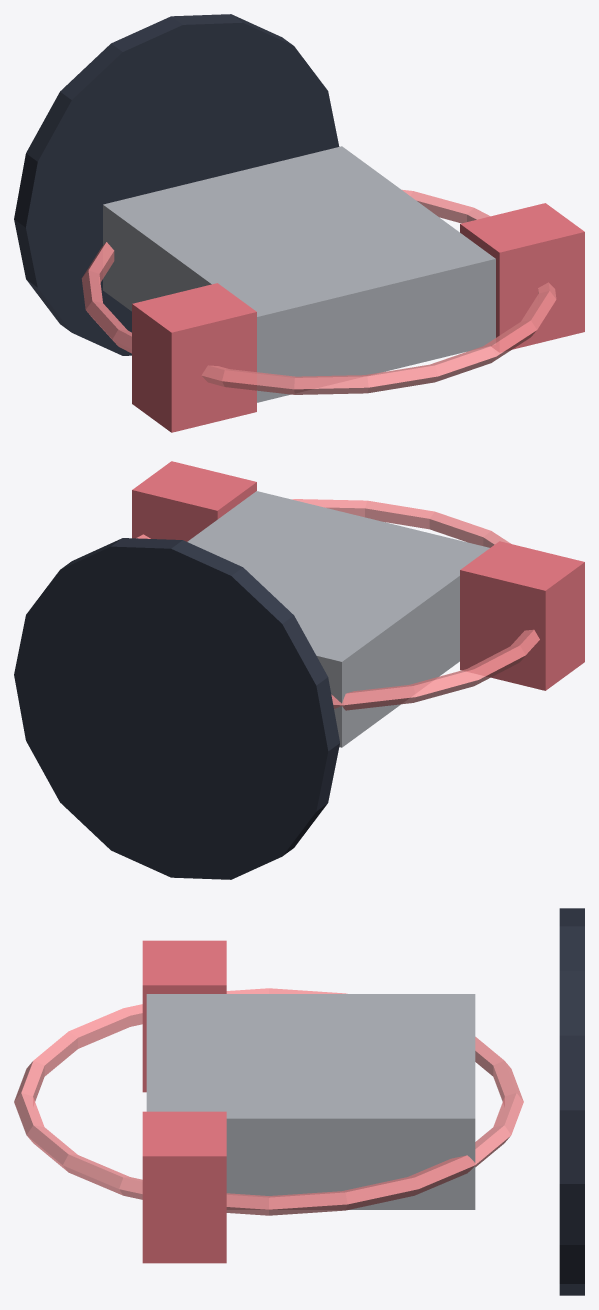
Rendered from 05_high_tier_magic_armor_aura.glb.
The picture shows the model from 3 angles, top to bottom: view 1: azimuth 30°, elevation 25°; view 2: azimuth 150°, elevation 25°; view 3: azimuth 270°, elevation 25°; orthographic projection. The views are drawn at different scales.
Parts seen in each view (by area): view 1: chest_plate_upgrade, armor_display_base, left_pauldron_upgrade, right_pauldron_upgrade, armor_barrier_ring; view 2: armor_display_base, chest_plate_upgrade, left_pauldron_upgrade, armor_barrier_ring, right_pauldron_upgrade; view 3: chest_plate_upgrade, armor_barrier_ring, right_pauldron_upgrade, armor_display_base, left_pauldron_upgrade.
Boxes of the visible parts, x1,y1,x2,y2 form: chest_plate_upgrade: (103, 146, 495, 402); armor_display_base: (14, 14, 339, 355); left_pauldron_upgrade: (132, 283, 256, 432); right_pauldron_upgrade: (460, 203, 584, 351); armor_barrier_ring: (81, 189, 556, 394); armor_display_base: (14, 538, 339, 879); chest_plate_upgrade: (187, 491, 489, 747); left_pauldron_upgrade: (460, 541, 584, 690); armor_barrier_ring: (136, 499, 539, 710); right_pauldron_upgrade: (132, 461, 256, 541); chest_plate_upgrade: (146, 994, 475, 1209); armor_barrier_ring: (14, 988, 523, 1215); right_pauldron_upgrade: (142, 1111, 226, 1263); armor_display_base: (559, 908, 584, 1295); left_pauldron_upgrade: (142, 940, 226, 1092).
Size of the model in its own units: 1.21 by 0.92 by 1.36.
